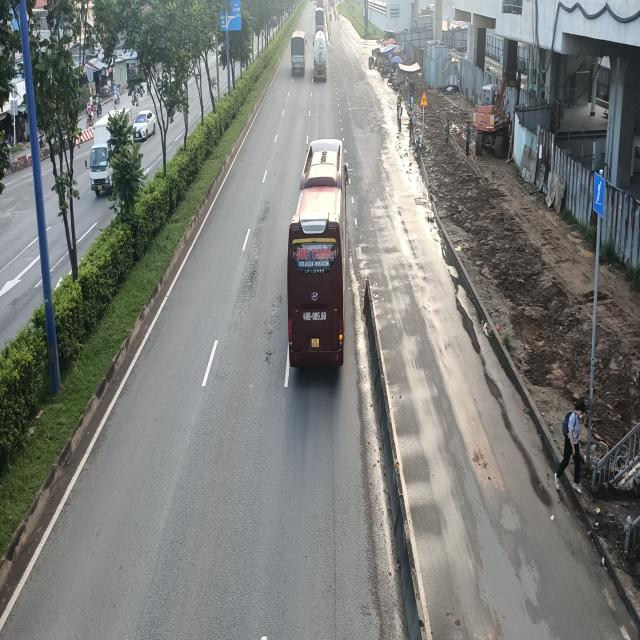coach: (283, 140, 345, 372)
truck: (312, 30, 328, 84), (290, 30, 306, 78)
